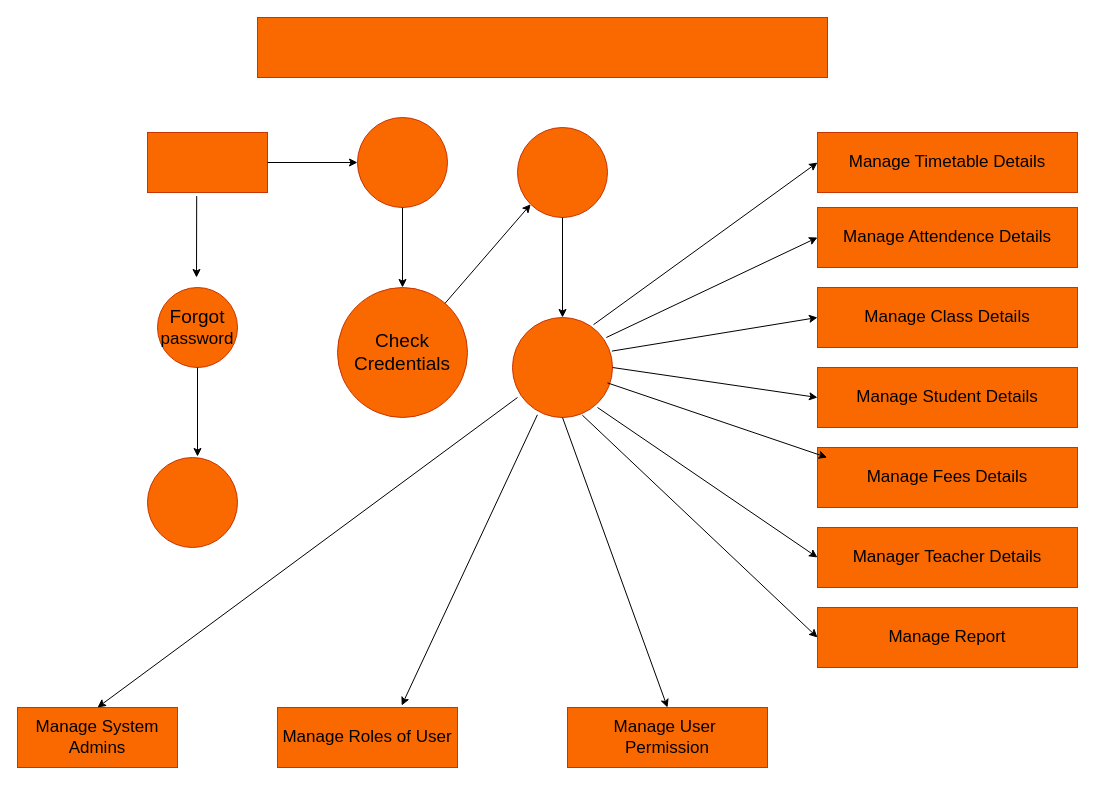
Some shapes in this 1095 by 785 pixel diagram are drawn without their labels. Each missing label, with the centre of its shape:
Admin: the point at 207,162
Check Roles of Access: the point at 562,172
Login to System: the point at 402,162
Managee Modules: the point at 562,367
Send Email to user: the point at 192,502
Student Information System: the point at 542,47
